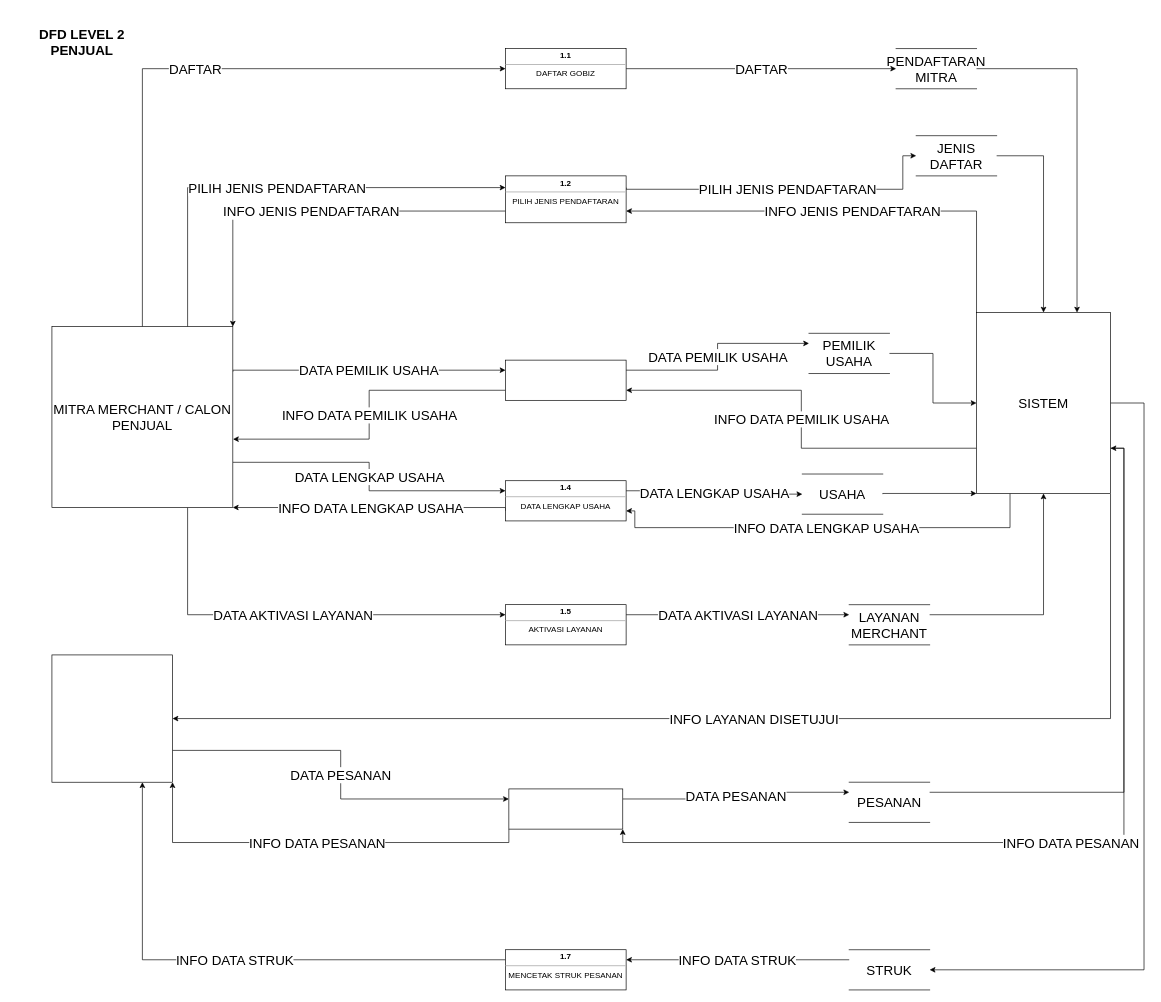
Some shapes in this 1161 by 1002 pixel diagram are drawn without their labels. Each missing label, with the centre of its shape:
"1.3 DATA PEMILIK USAHA" belongs at (565,379).
"1.6 MENERIMA PESANAN" belongs at (565,808).
"MERCHANT RESMI / PENJUAL" belongs at (112,718).
